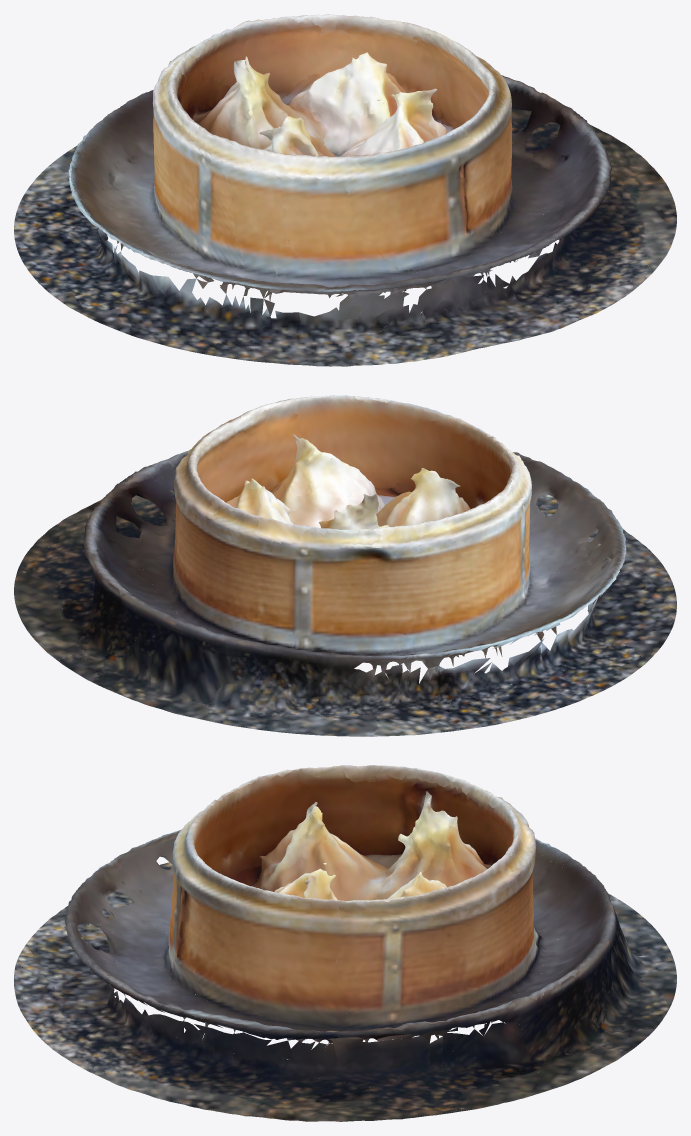
The model's file is soup_dumpling.glb.
3 renders of one model, top to bottom at view 1: azimuth 30°, elevation 25°; view 2: azimuth 150°, elevation 25°; view 3: azimuth 270°, elevation 25°, orthographic. The views are drawn at different scales.
Visible parts, largest first — view 1: Object_2, Object_3; view 2: Object_2, Object_3; view 3: Object_2, Object_3.
Boxes of the visible parts, x1=… form: Object_2: x1=14, y1=14, x2=676, y2=366; Object_3: x1=30, y1=15, x2=673, y2=351; Object_2: x1=14, y1=395, x2=676, y2=736; Object_3: x1=21, y1=395, x2=665, y2=736; Object_2: x1=14, y1=765, x2=676, y2=1121; Object_3: x1=54, y1=765, x2=674, y2=1112.
Size of the model in its own units: 0.2974 by 0.0764 by 0.2892.
Materials: 1 (1 with a texture image).
